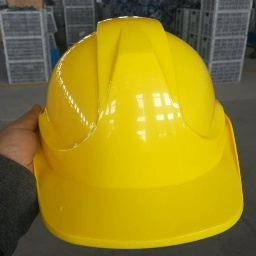helmet: (33, 15, 248, 253)
